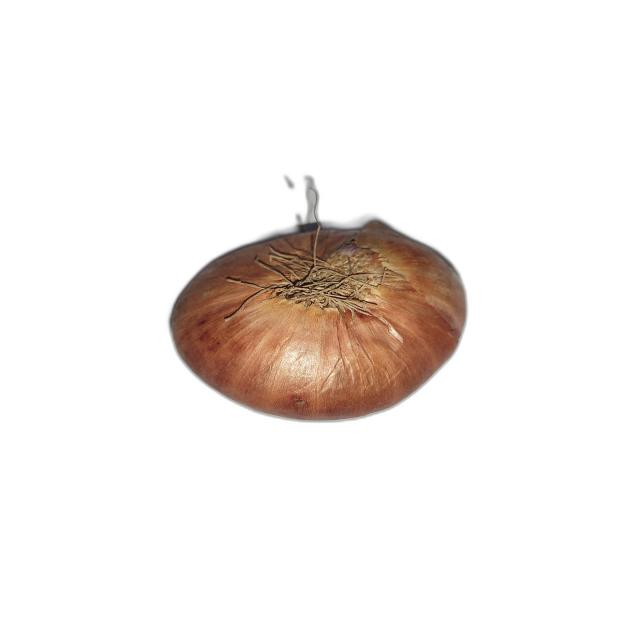onion: (168, 219, 469, 422)
